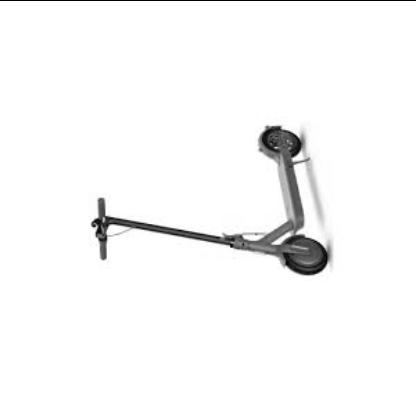bike: (90, 126, 329, 276)
